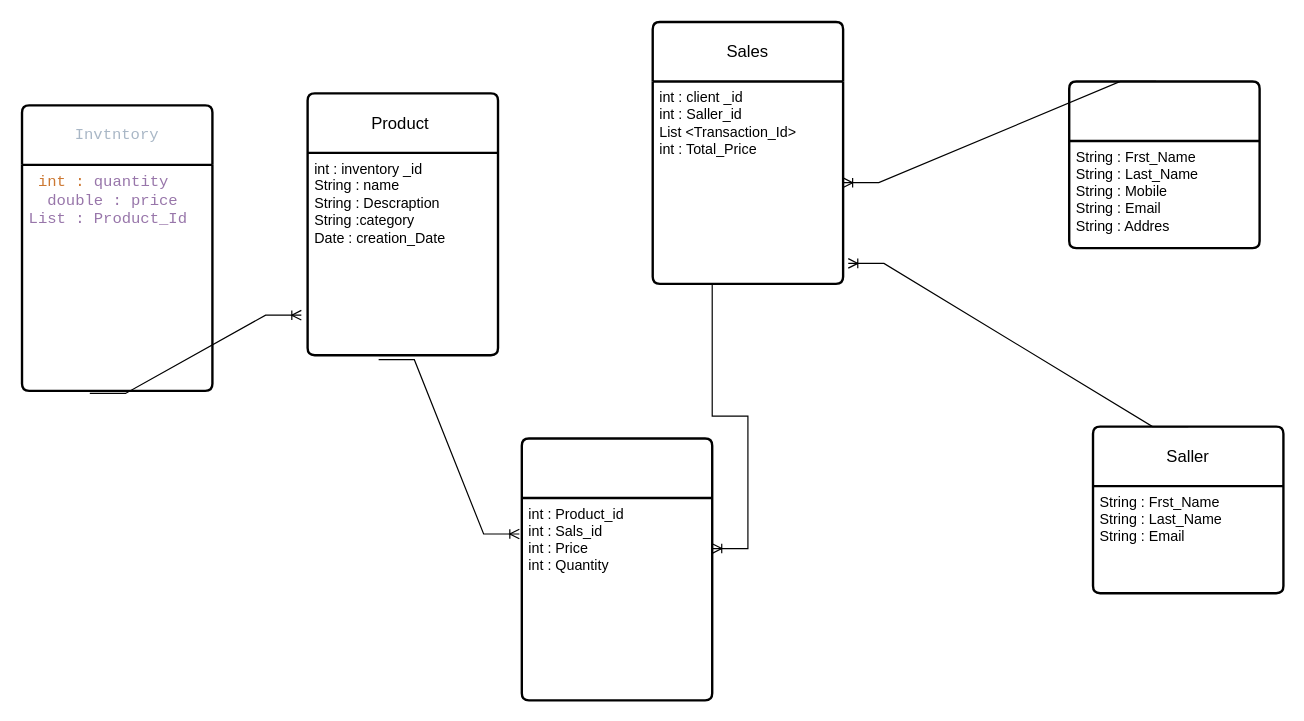
Image size: 1304x721. Some labels were removed from this diagram. Each missing label, with the box of its shape:
Client: (1067, 80, 1260, 249)
Transaction: (520, 437, 713, 701)
